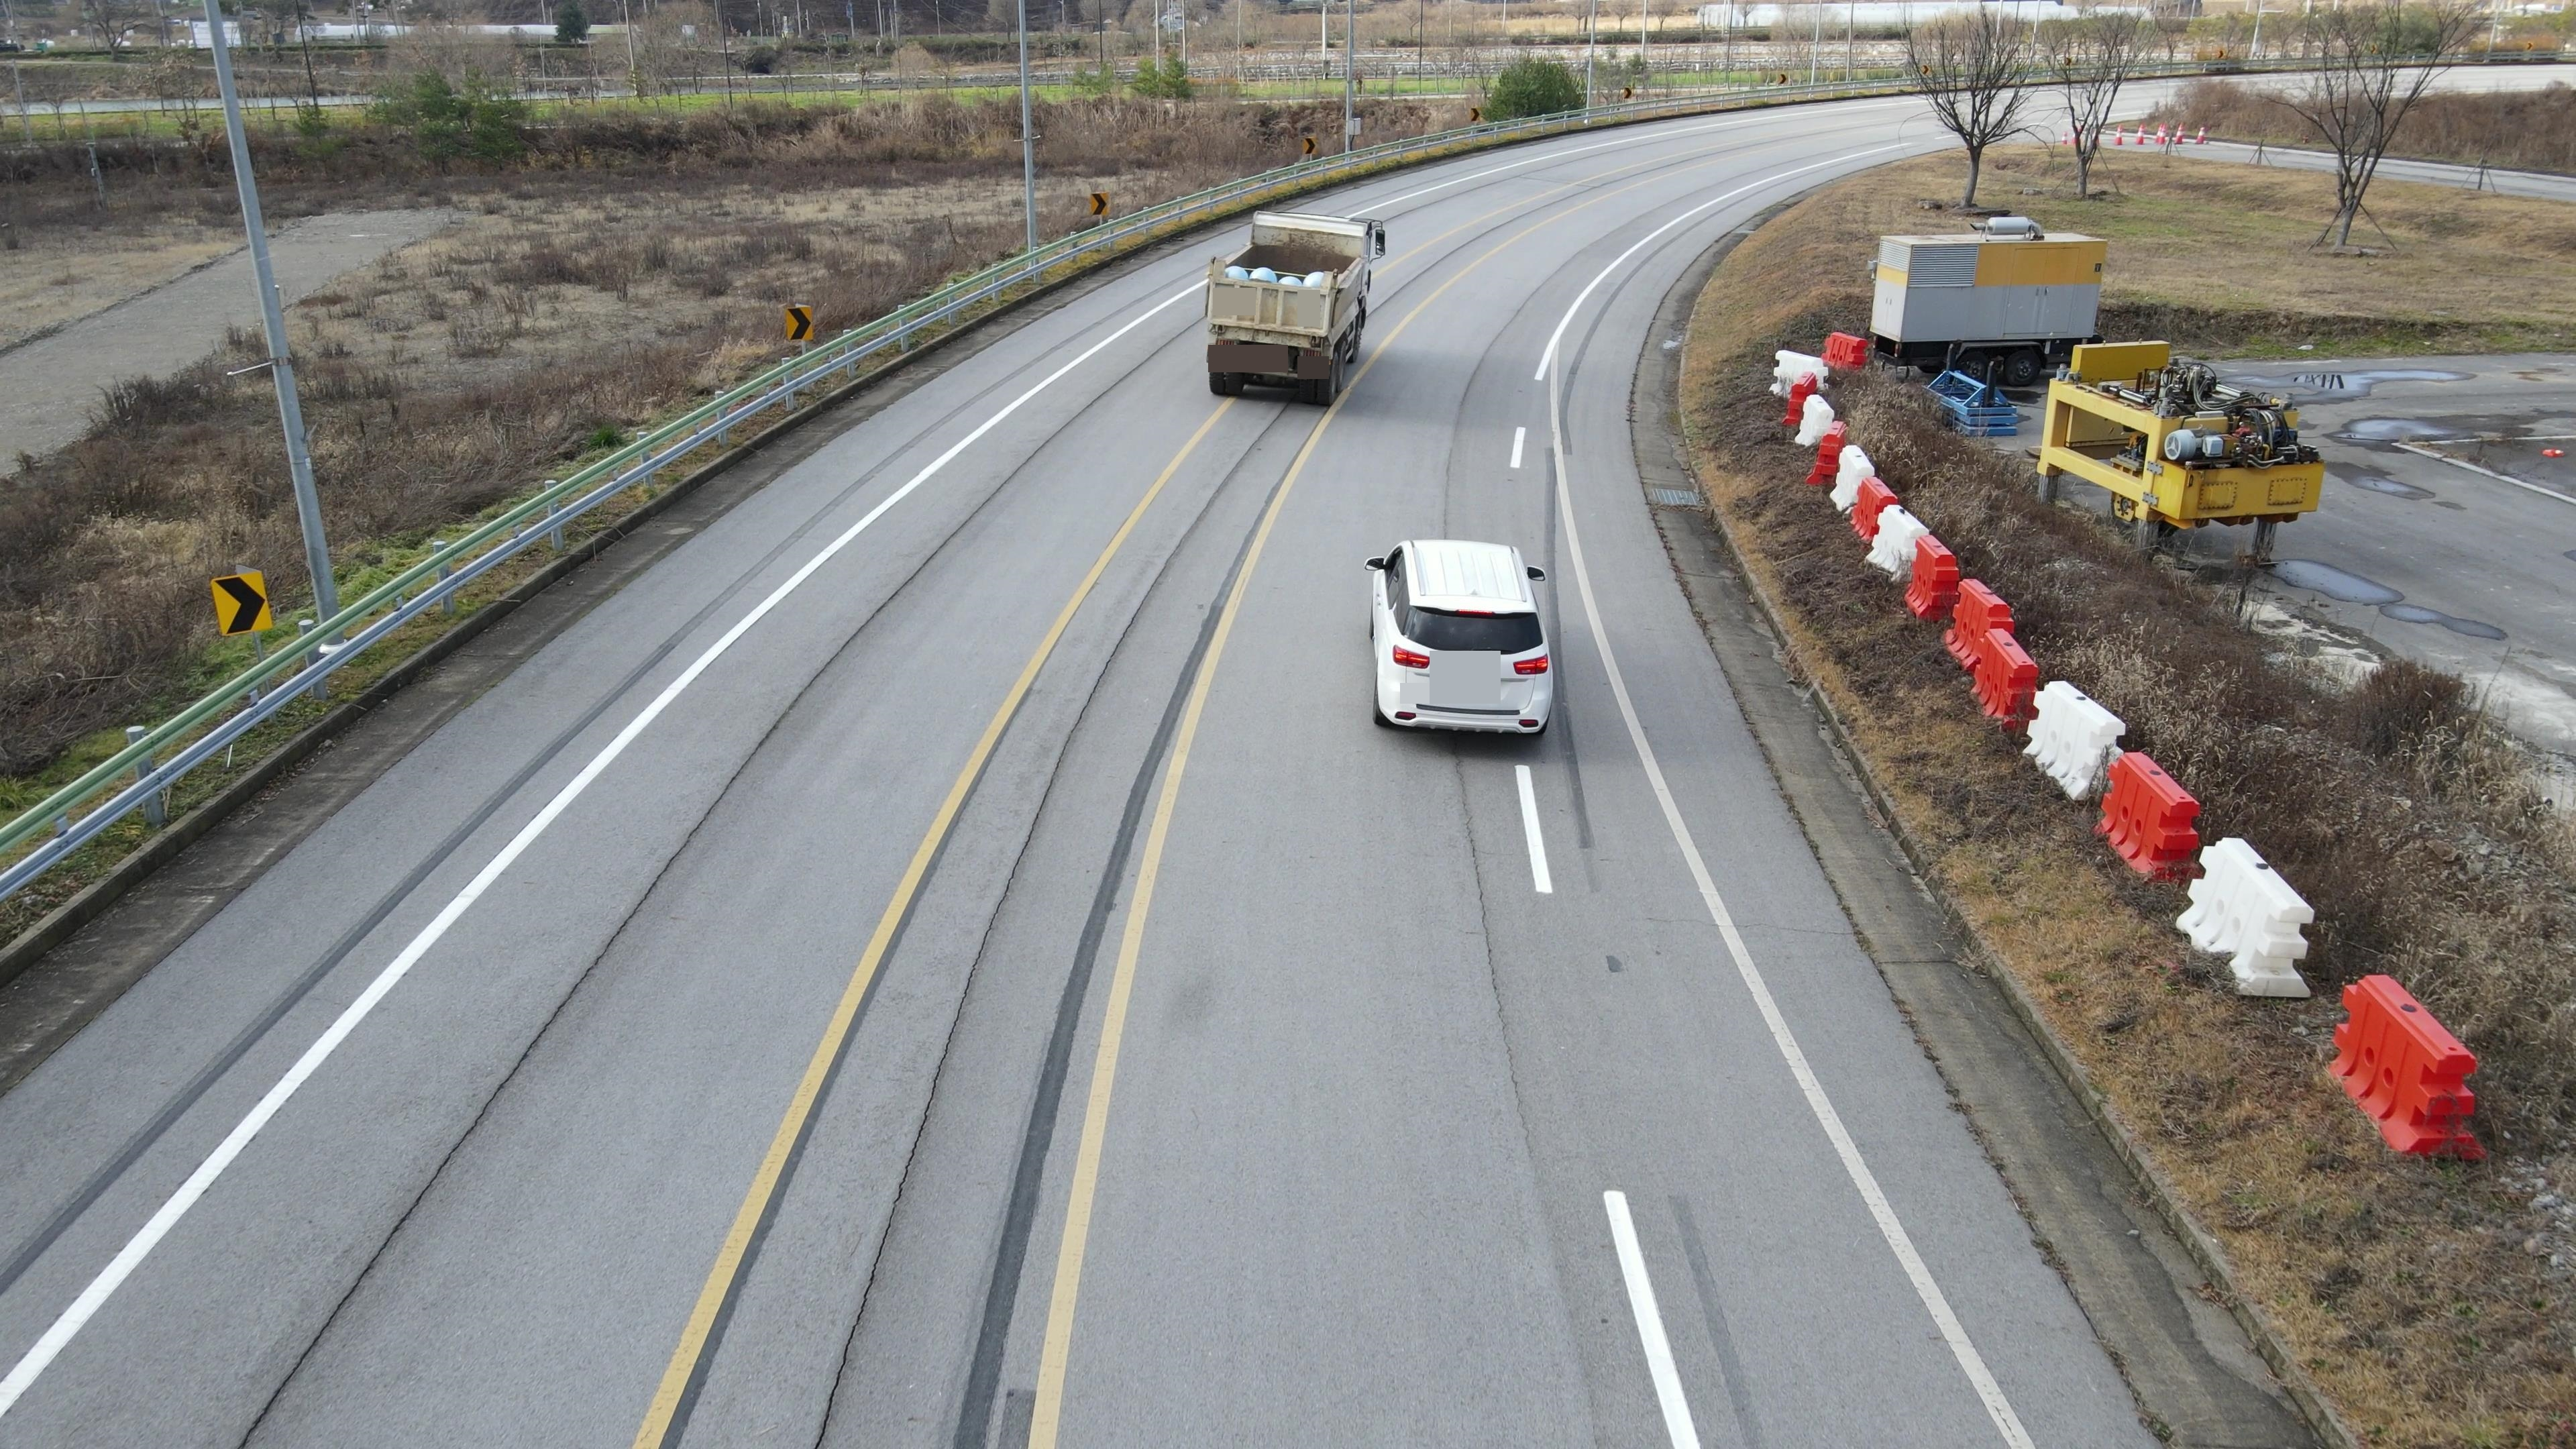불법차량: (1205, 210, 1386, 407)
